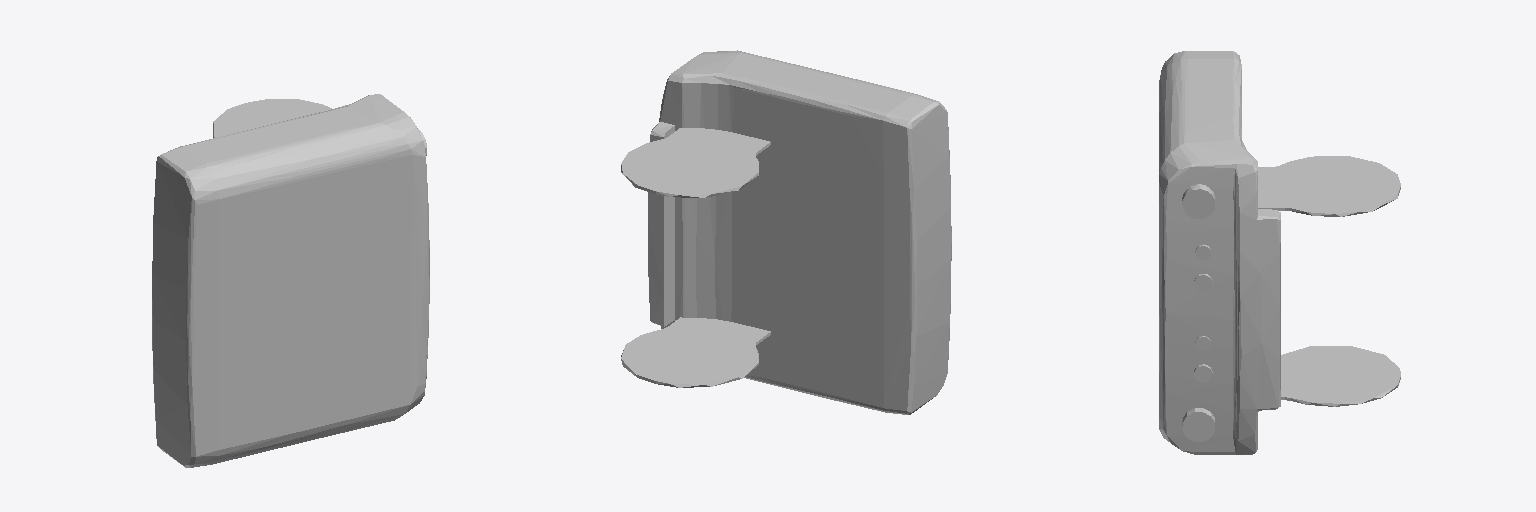
The model's file is head_tilt.obj.
3 renders of one model, left to right at view 1: azimuth 30°, elevation 25°; view 2: azimuth 150°, elevation 25°; view 3: azimuth 270°, elevation 25°, orthographic.
Parts seen in each view (by area): view 1: head_tilt_M; view 2: head_tilt_M; view 3: head_tilt_M.
Part boxes in pixels (x1,y1,x2,y2): head_tilt_M: (152,94,429,467); head_tilt_M: (621,50,951,414); head_tilt_M: (1159,51,1400,454).
Bounding box in the file's own units: 0.2614 × 0.2957 × 0.217.